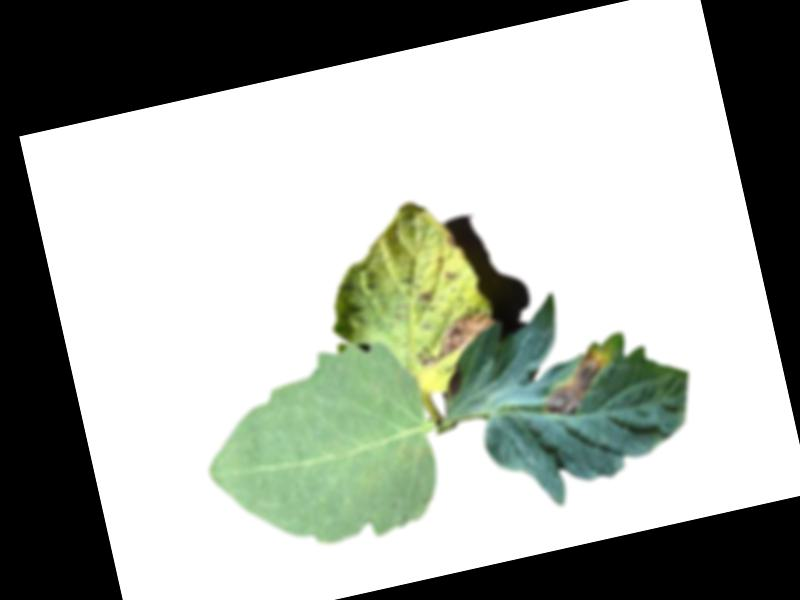Early_blight: (531, 343, 620, 421), (406, 303, 502, 368), (415, 287, 439, 307), (442, 266, 457, 283), (443, 233, 457, 249)
